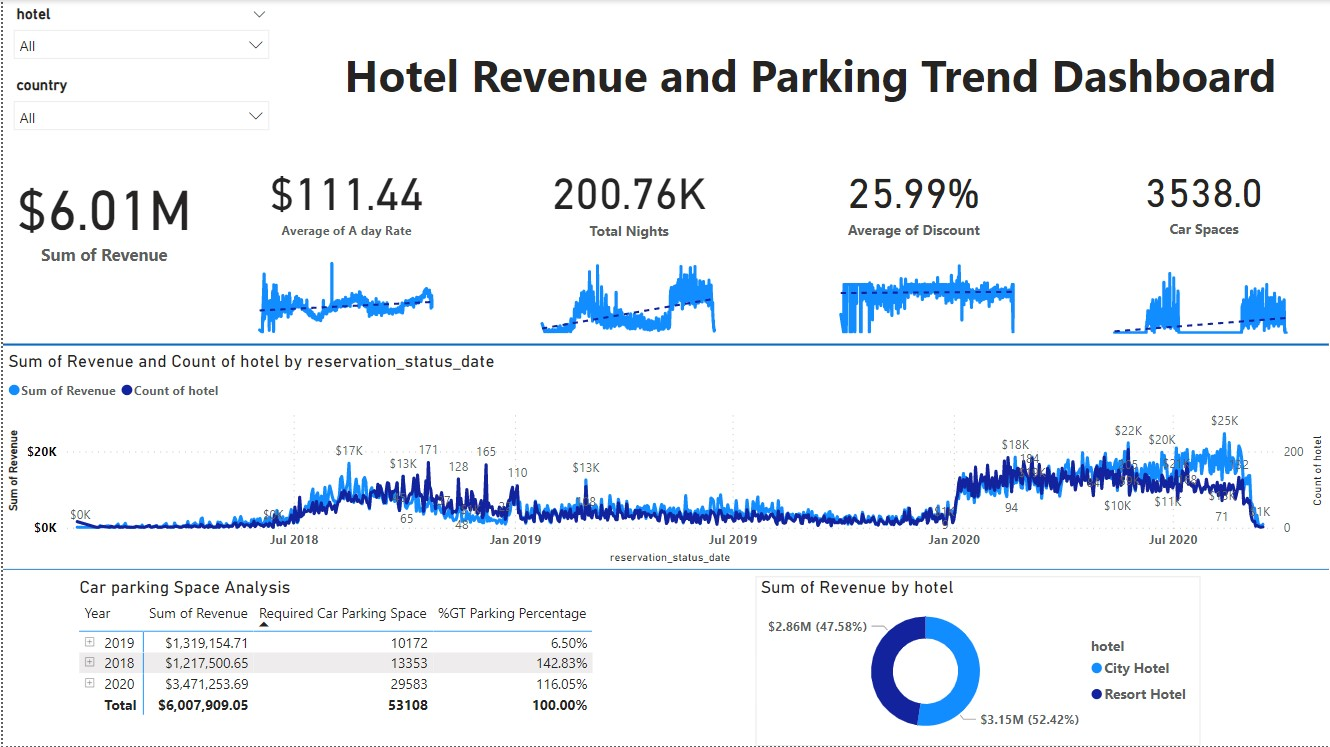

This screenshot's page, from the dashboard's own definition file:
{"tool":"powerbi","page":{"name":"Page 1","canvas":[1280,720],"ordinal":0},"visuals":[{"type":"shape","box":[0,326.8,1279.6,10.9],"z":0},{"type":"shape","box":[0,541.5,1279.6,14.5],"z":1},{"type":"card","fields":{"Values":["Sum(Hotel Data.Revenue)"]},"box":[0,127.8,195.4,158],"z":2},{"type":"card","fields":{"Values":["Avg(Hotel Data.adr)"]},"box":[203.8,138.7,255.7,103.7],"z":3},{"type":"card","fields":{"Values":["Hotel Data.Total Nights"]},"box":[490.9,139.9,226.7,103.7],"z":4},{"type":"card","fields":{"Values":["Avg(Hotel Data.Discount)"]},"box":[767,139.9,223.1,103.7],"z":5},{"type":"lineChart","fields":{"Category":["Hotel Data.reservation_status_date"],"Y":["Sum(Hotel Data.Revenue)"],"Y2":["CountNonNull(Hotel Data.hotel)"]},"box":[0,337.7,1279.6,211.1],"z":6},{"type":"slicer","fields":{"Values":["Hotel Data.country"]},"box":[0,68.7,266.5,69.9],"z":7},{"type":"slicer","fields":{"Values":["Hotel Data.hotel"]},"box":[0,0,266.5,69.9],"z":8},{"type":"lineChart","fields":{"Category":["Hotel Data.reservation_status_date"],"Y":["Avg(Hotel Data.A day Rate)"]},"box":[232.8,237.6,196.6,89.2],"z":10},{"type":"lineChart","fields":{"Category":["Hotel Data.reservation_status_date"],"Y":["Hotel Data.Total Nights"]},"box":[505.3,237.6,196.6,89.2],"z":11},{"type":"lineChart","fields":{"Category":["Hotel Data.reservation_status_date"],"Y":["Avg(Hotel Data.Discount)"]},"box":[793.6,237.6,196.6,89.2],"z":12},{"type":"card","fields":{"Values":["Sum(Hotel Data.required_car_parking_spaces)"]},"box":[1038.4,139.9,241.2,103.7],"z":13},{"type":"lineChart","fields":{"Category":["Hotel Data.reservation_status_date"],"Y":["Sum(Hotel Data.required_car_parking_spaces)"]},"box":[1057.7,243.6,195.4,83.2],"z":15},{"type":"donutChart","fields":{"Y":["Sum(Hotel Data.Revenue)"],"Category":["Hotel Data.hotel"]},"box":[726,556,429.3,164],"z":16},{"type":"pivotTable","title":"Car parking Space Analysis","fields":{"Rows":["Hotel Data.reservation_status_date.Variation.Date Hierarchy.Year","Hotel Data.hotel"],"Values":["Sum(Hotel Data.Revenue)","CountNonNull(Hotel Data.required_car_parking_spaces)","Hotel Data.Parking Percentage"]},"box":[68.7,556,535.5,148.3],"z":17},{"type":"textbox","box":[278.6,37.4,1001,90.5],"z":19}]}

Visuals, with their boxes in screenshot pixels (x1, y1, x2, y2), scaled from the page's 1280x720 canvas onto the 1330x747 screenshot:
shape: <box>0,339,1329,350</box>
shape: <box>0,562,1329,577</box>
card - Sum(Hotel Data.Revenue): <box>0,133,203,297</box>
card - Avg(Hotel Data.adr): <box>212,144,477,251</box>
card - Hotel Data.Total Nights: <box>510,145,746,253</box>
card - Avg(Hotel Data.Discount): <box>797,145,1029,253</box>
lineChart - Hotel Data.reservation_status_date x Sum(Hotel Data.Revenue): <box>0,350,1329,569</box>
slicer - Hotel Data.country: <box>0,71,277,144</box>
slicer - Hotel Data.hotel: <box>0,0,277,73</box>
lineChart - Hotel Data.reservation_status_date x Avg(Hotel Data.A day Rate): <box>242,247,446,339</box>
lineChart - Hotel Data.reservation_status_date x Hotel Data.Total Nights: <box>525,247,729,339</box>
lineChart - Hotel Data.reservation_status_date x Avg(Hotel Data.Discount): <box>825,247,1029,339</box>
card - Sum(Hotel Data.required_car_parking_spaces): <box>1079,145,1329,253</box>
lineChart - Hotel Data.reservation_status_date x Sum(Hotel Data.required_car_parking_spaces): <box>1099,253,1302,339</box>
donutChart - Sum(Hotel Data.Revenue) x Hotel Data.hotel: <box>754,577,1200,746</box>
"Car parking Space Analysis" pivotTable: <box>71,577,628,731</box>
textbox: <box>289,39,1329,133</box>
